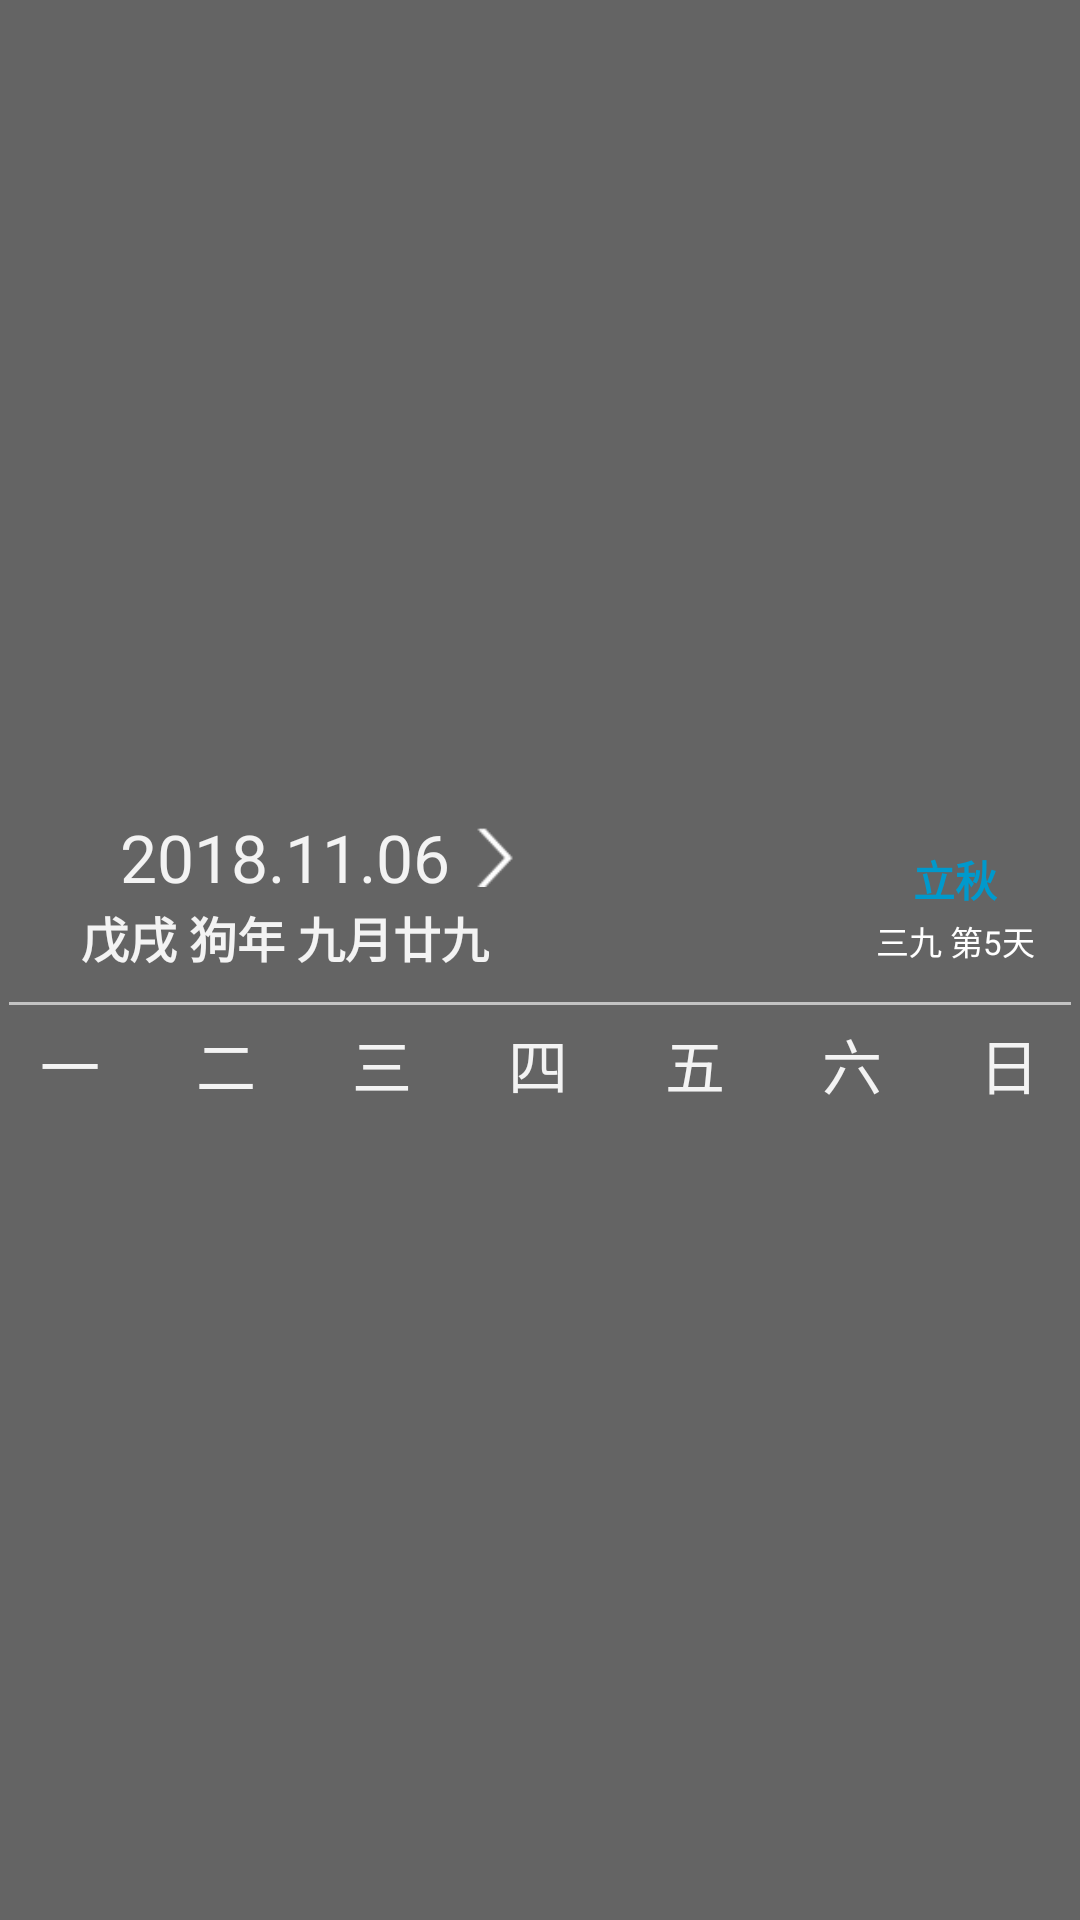

Where to tap for icons on this 1080w x 1920h app screen, as point (x, y):
right: point (495, 857)
